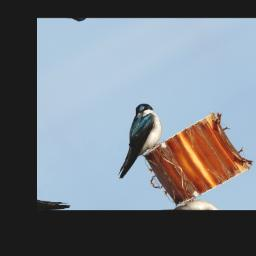Swallow: (88, 99, 180, 181)
